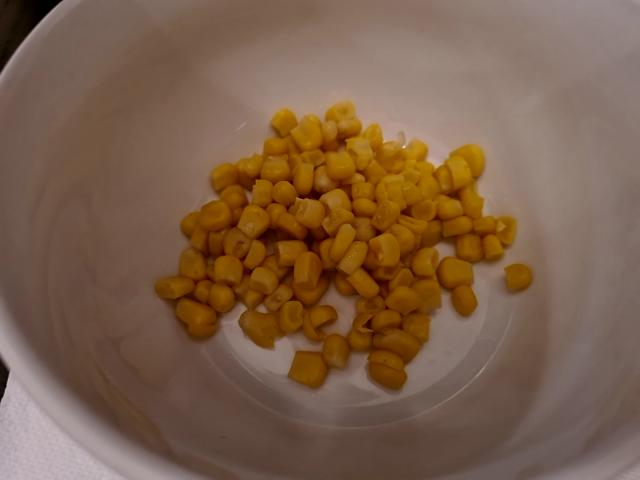kichen waste: (154, 102, 531, 392)
